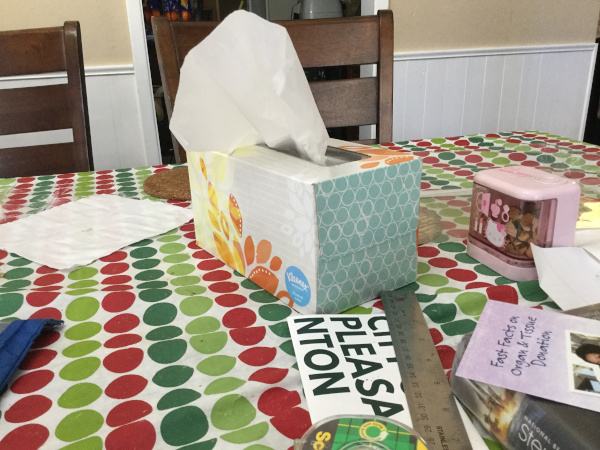box: (172, 18, 438, 323)
